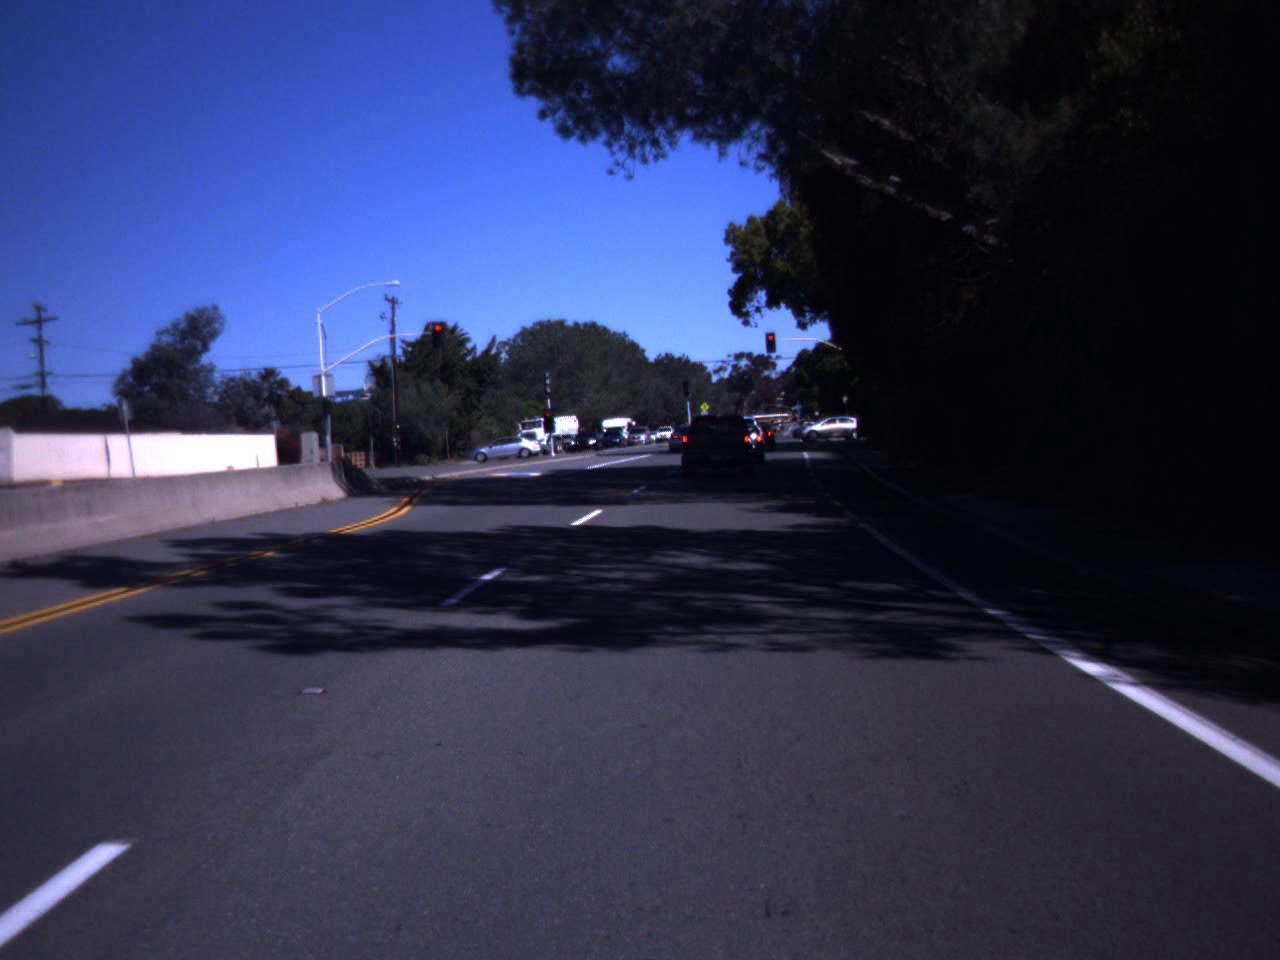stop: (432, 324, 444, 342), (764, 334, 776, 352), (542, 410, 554, 428)
